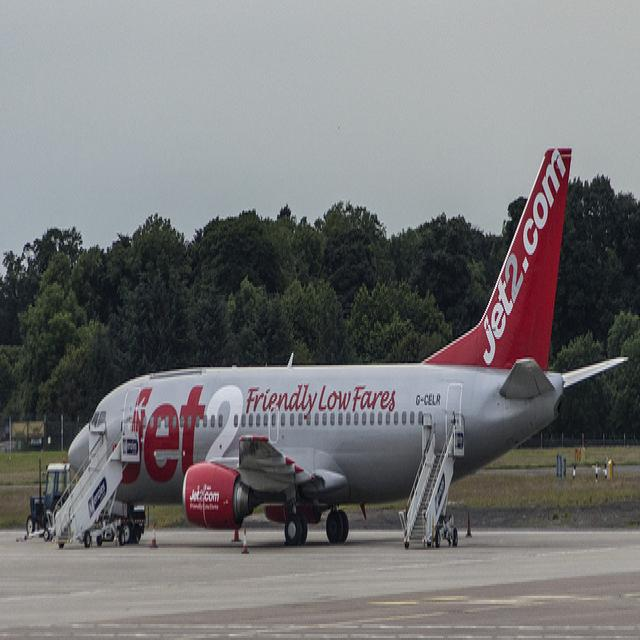Vehicle: (26, 459, 70, 542)
